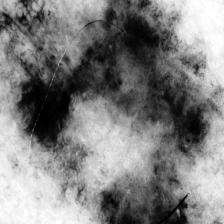Benign Marking or Mole: (0, 0, 203, 224)
